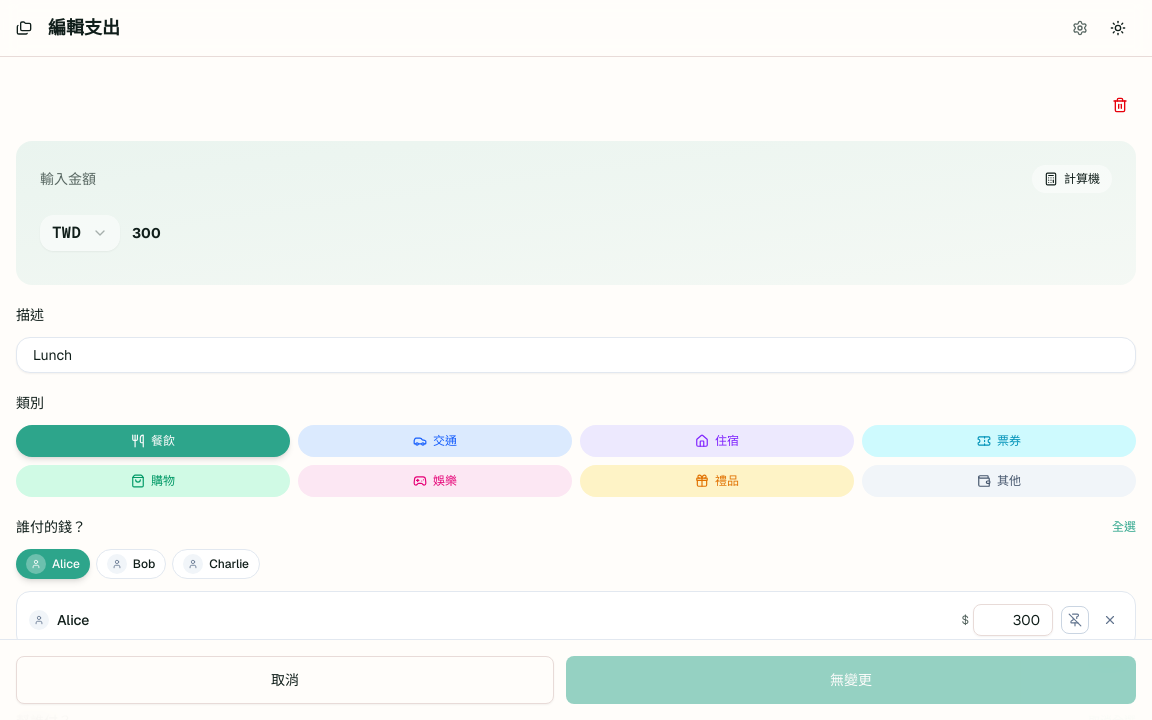
Test: ExpenseForm Component › Edit Mode - Delete Functionality › should show delete confirmation dialog when delete button clicked
The image size is (1152, 720).
What coordinates should you click on to do the following:
click the button titled "刪除此筆"
I would click on:
 (1120, 105)
Its box is [1104,89,1136,121].
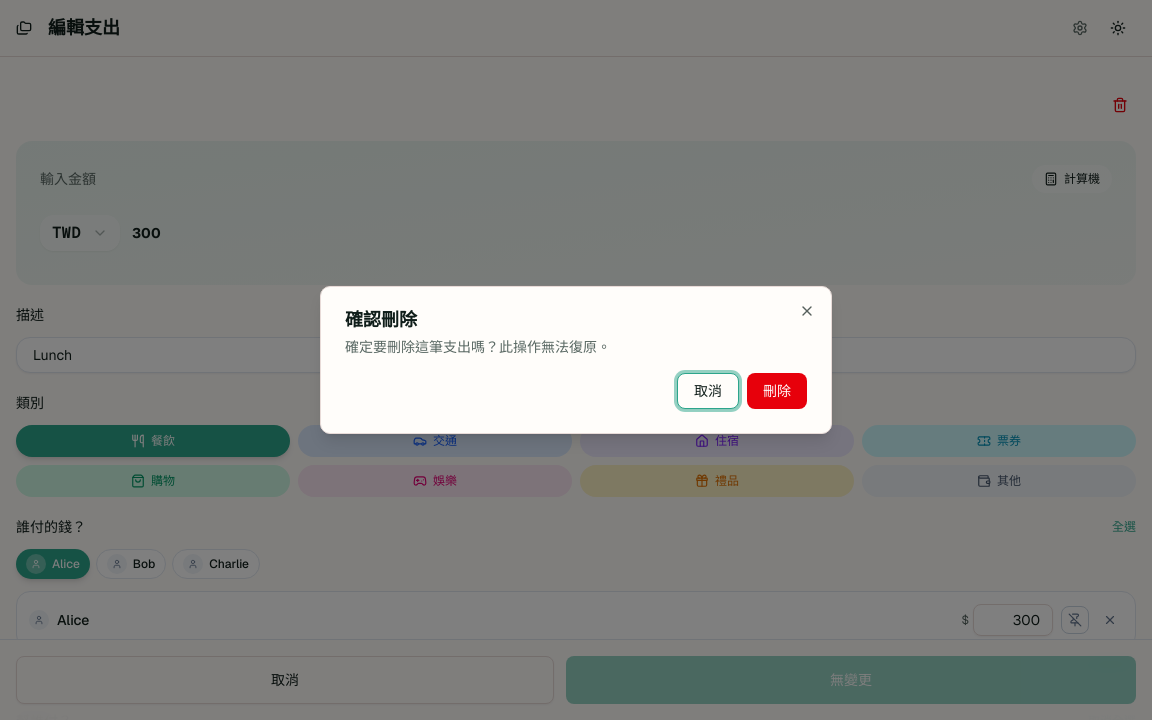
Expected: the text "確定要刪除這筆支出嗎？此操作無法復原。" is shown, [345,338,611,356]
